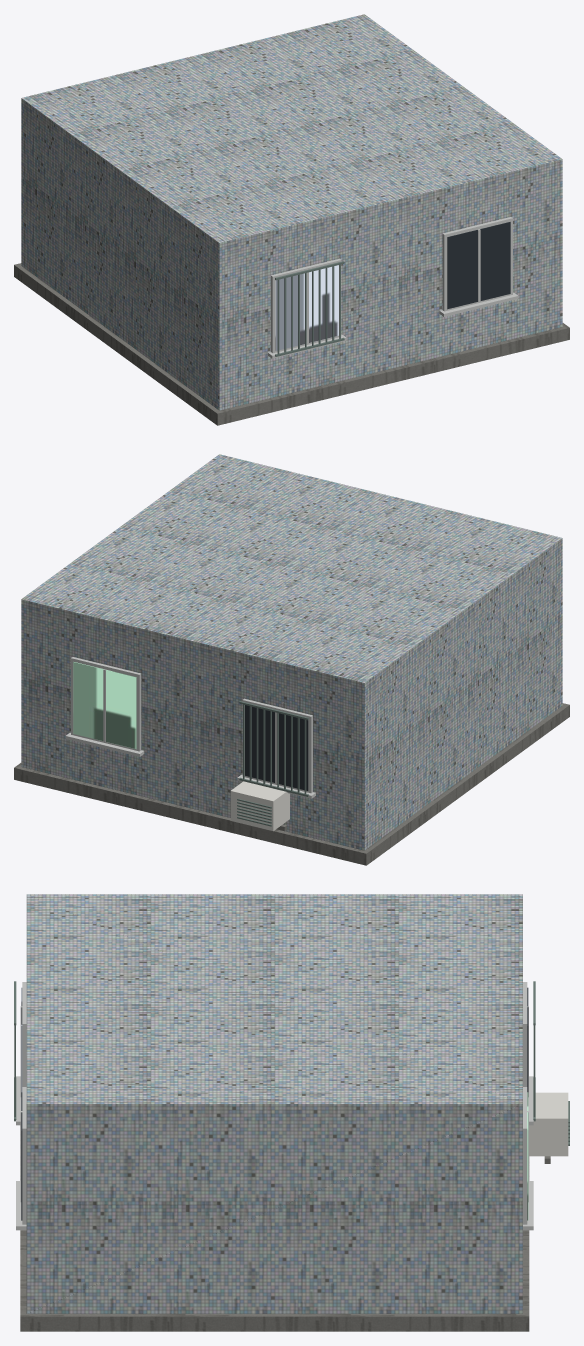
File: floor_tile.glb
The picture shows the model from 3 angles, top to bottom: view 1: azimuth 30°, elevation 25°; view 2: azimuth 150°, elevation 25°; view 3: azimuth 270°, elevation 25°; orthographic projection. The views are drawn at different scales.
Parts seen in each view (by area): view 1: floor_tile; view 2: floor_tile; view 3: floor_tile.
Boxes of the visible parts, x1,y1,x2,y2 form: floor_tile: [14, 14, 569, 425]; floor_tile: [14, 454, 569, 865]; floor_tile: [14, 894, 569, 1331].
Size of the model in its own units: 6.16 by 3 by 6.73.
10 materials, 5 textured.
